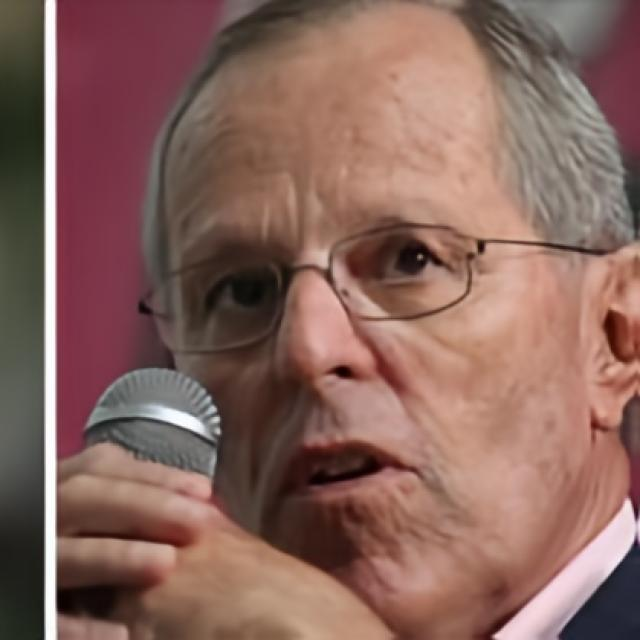surprise: (162, 1, 589, 640)
